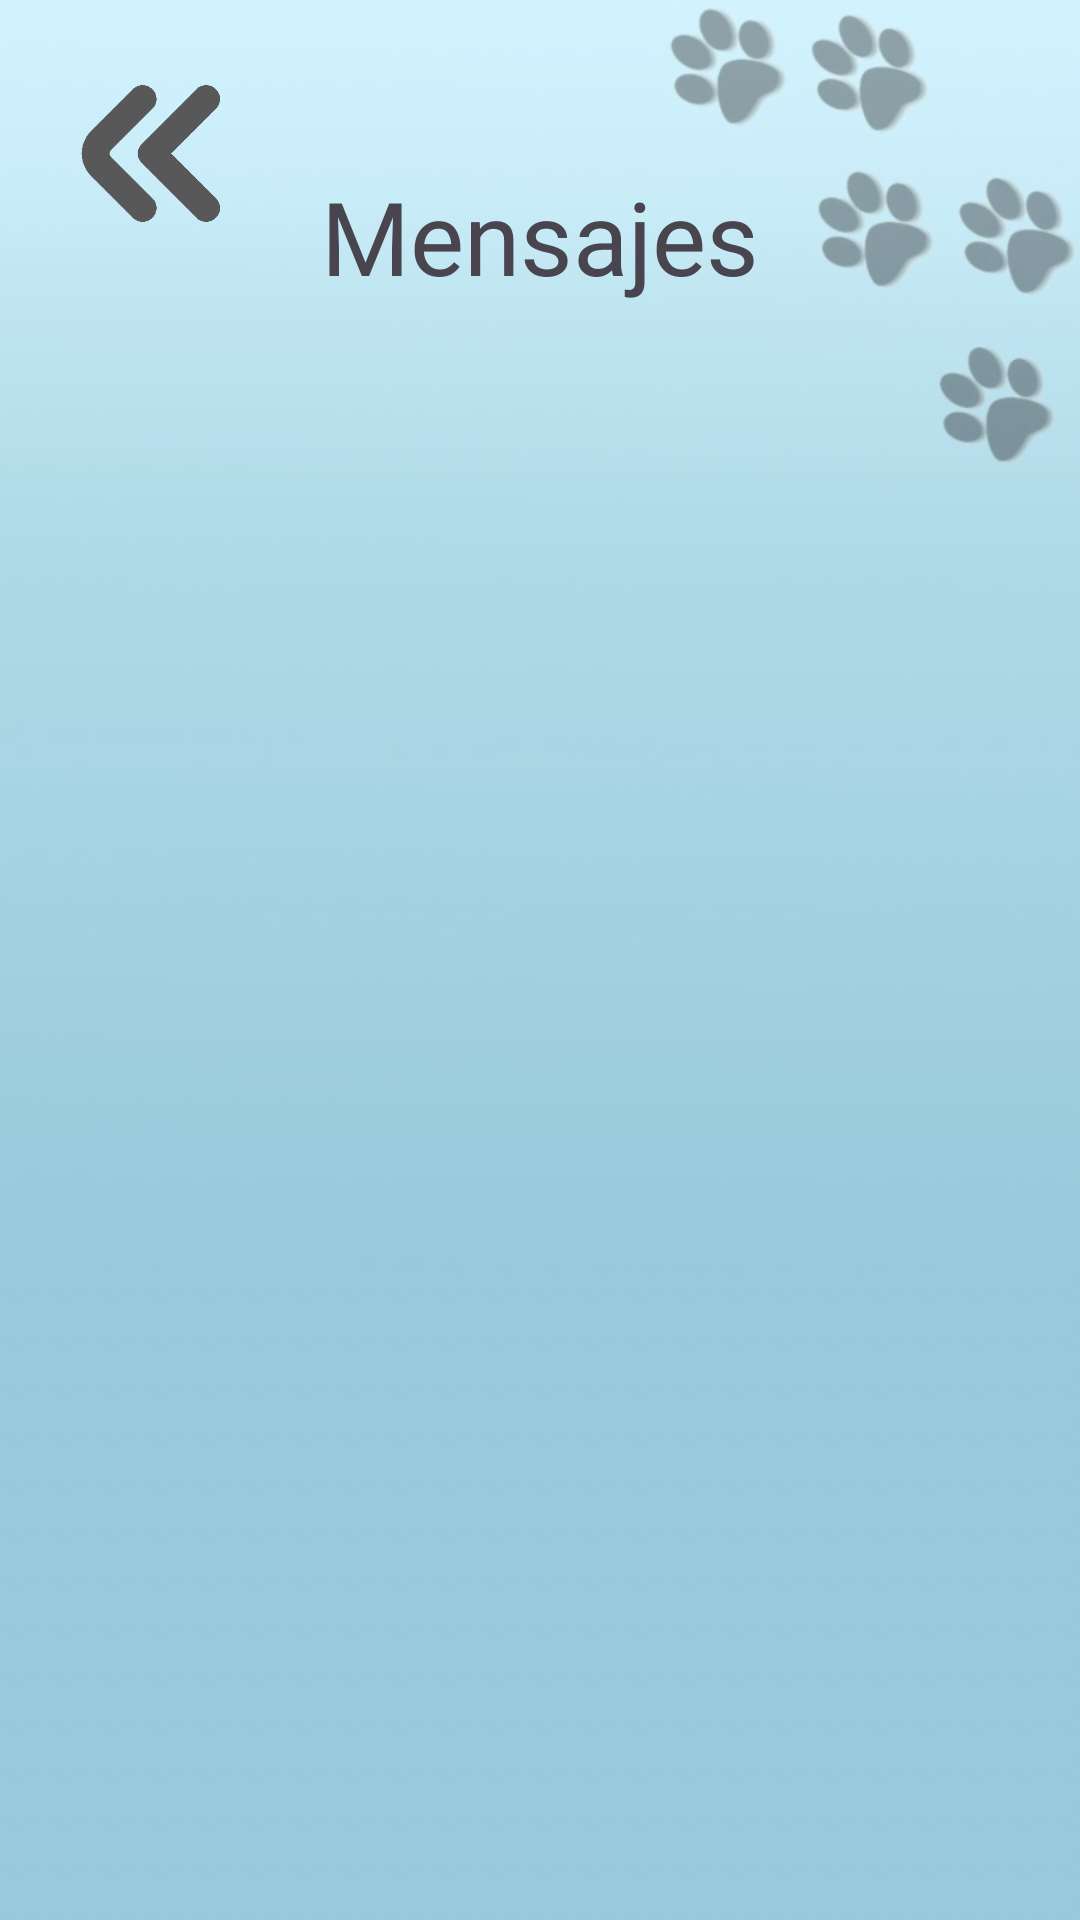

Point at icon controls on the screen. Image size 1080px x 1920px, points as [x,y].
regresar: [150,153]
